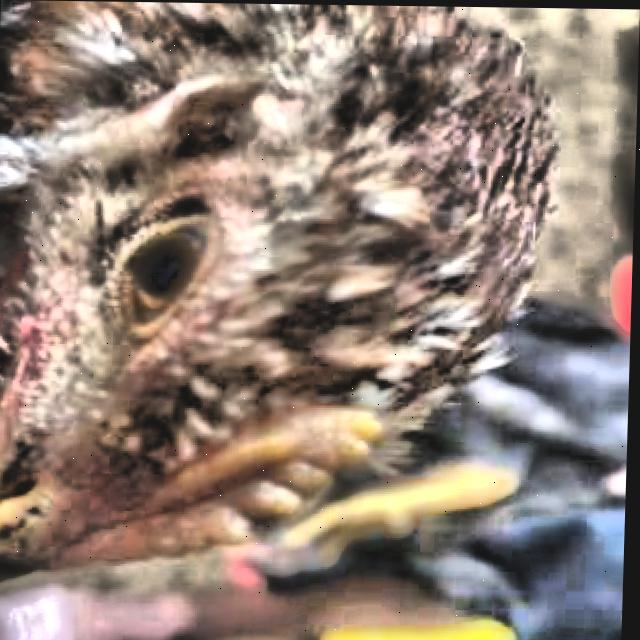Healthy: (55, 176, 249, 396)
